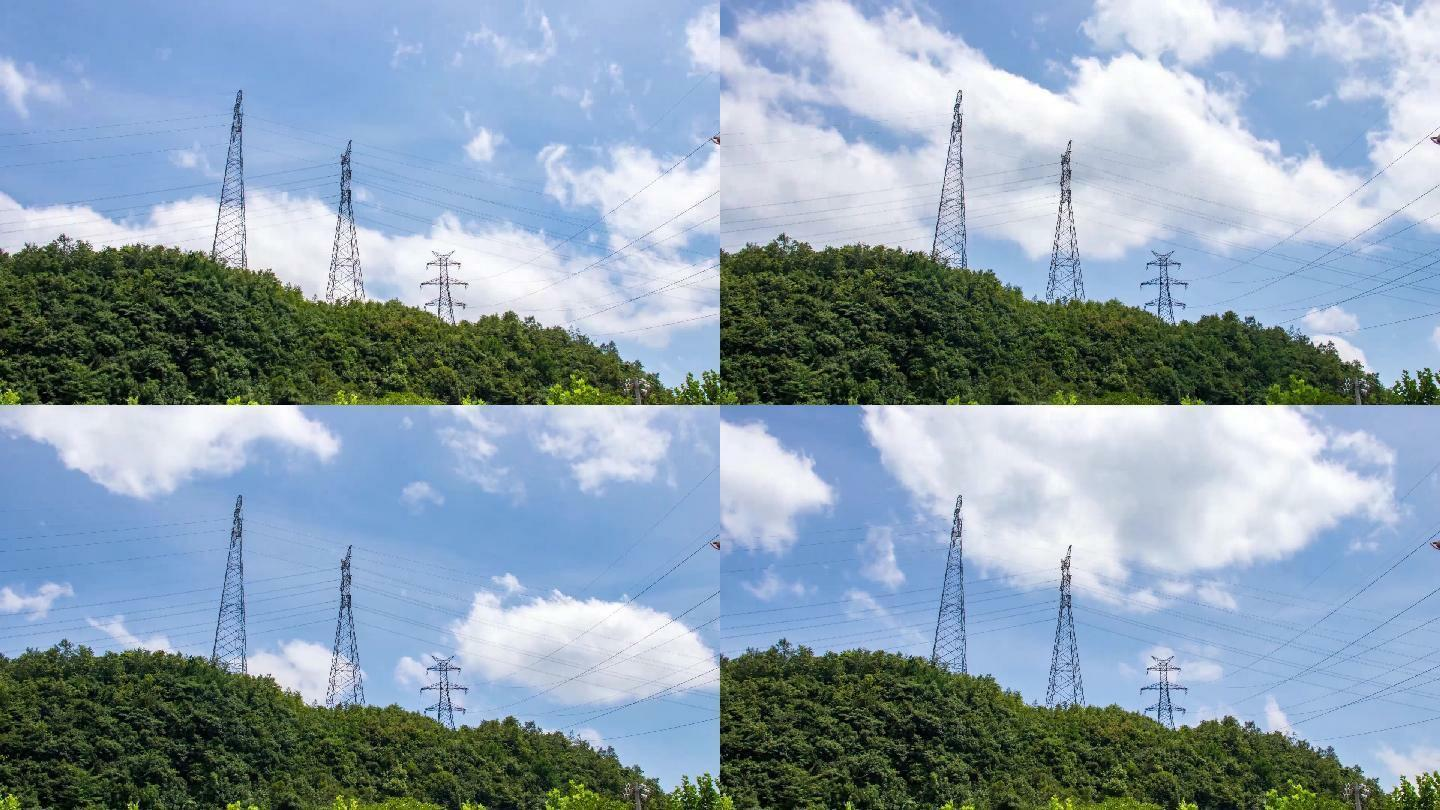power_tower: (918, 81, 979, 271), (207, 88, 263, 282), (918, 489, 972, 680), (313, 134, 370, 310), (210, 492, 262, 681), (319, 536, 374, 709), (1040, 538, 1093, 710), (1039, 138, 1091, 313), (1127, 242, 1206, 328), (412, 648, 480, 737), (422, 241, 477, 341), (1134, 648, 1190, 732)
